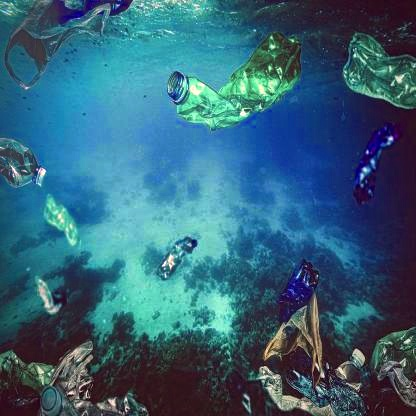can: (38, 387, 68, 415)
pbag: (7, 3, 114, 84), (263, 298, 334, 386)
pbottle: (161, 25, 304, 150), (338, 34, 416, 116), (334, 122, 405, 207), (266, 248, 322, 328), (40, 191, 86, 256), (0, 130, 46, 194), (152, 223, 205, 278), (328, 341, 377, 395), (29, 267, 70, 327)
